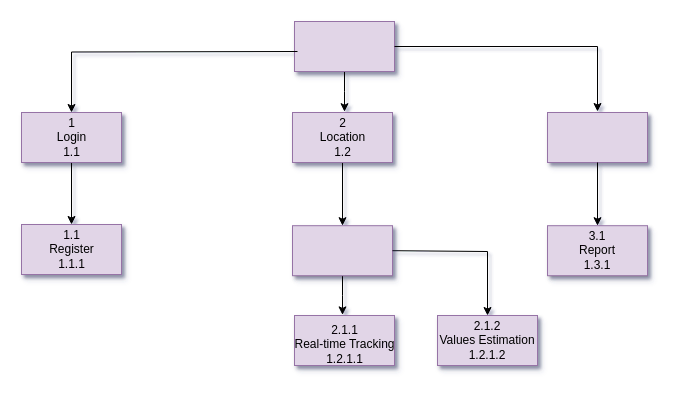
This 677x396 diagram has some shape labels left out. Each missing label, with the centre of its shape:
0 Main Menu 1: pixel 345 47
2.1 Location Search 1.2.1: pixel 343 252
3 Notifications 1.3: pixel 598 139
